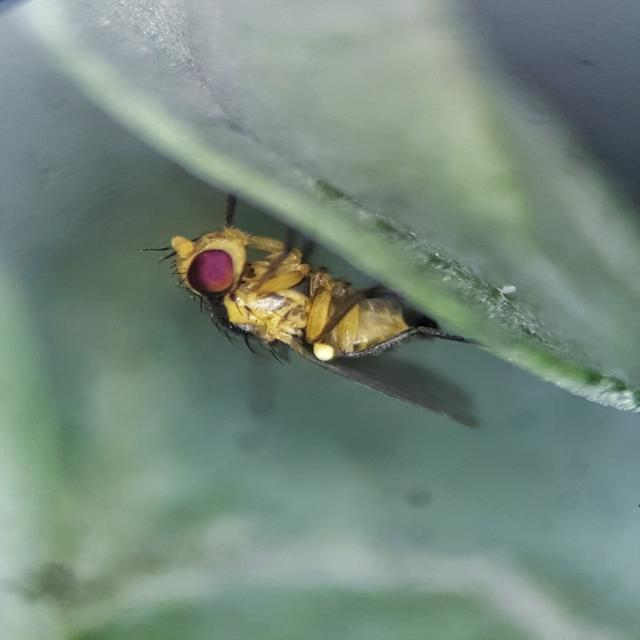Serpentine leafminer: (134, 191, 495, 438)
